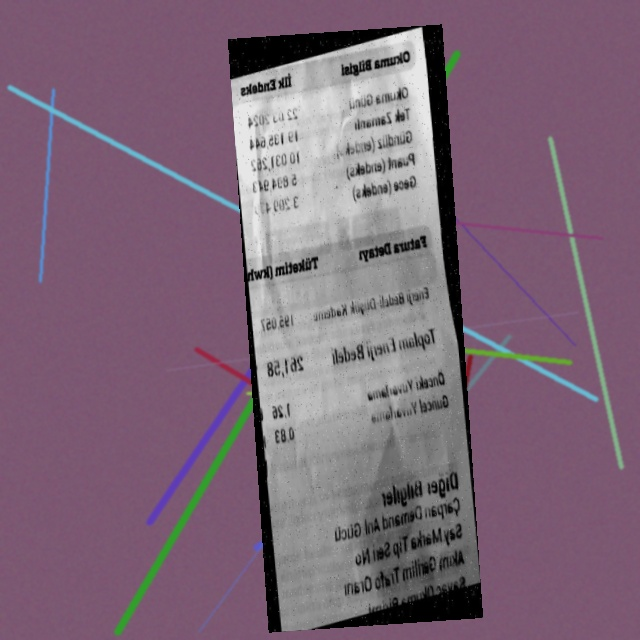electricity-bill: (228, 24, 483, 632)
